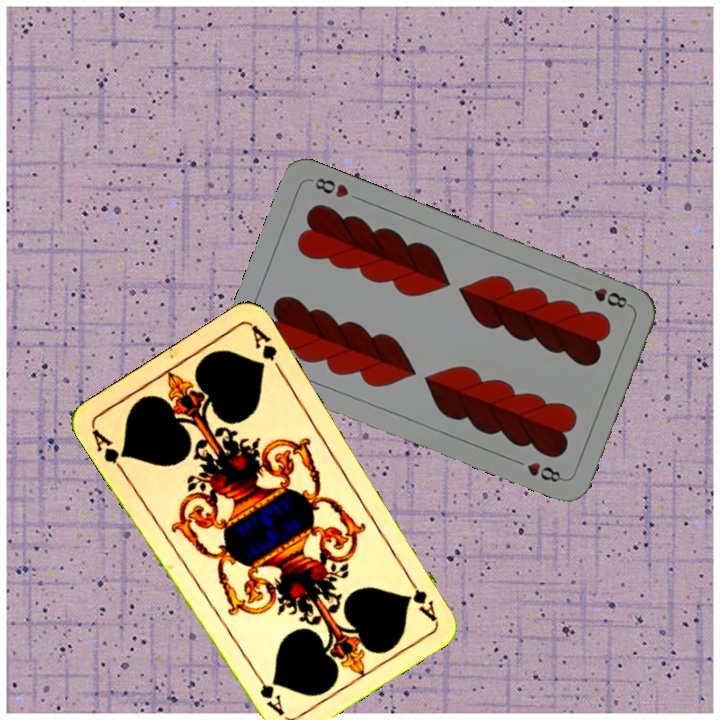GA: (87, 424, 131, 476), (401, 569, 439, 624)
H8: (577, 281, 633, 311)
